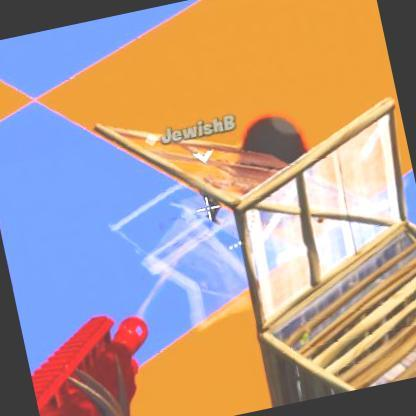person: (200, 184, 228, 231)
